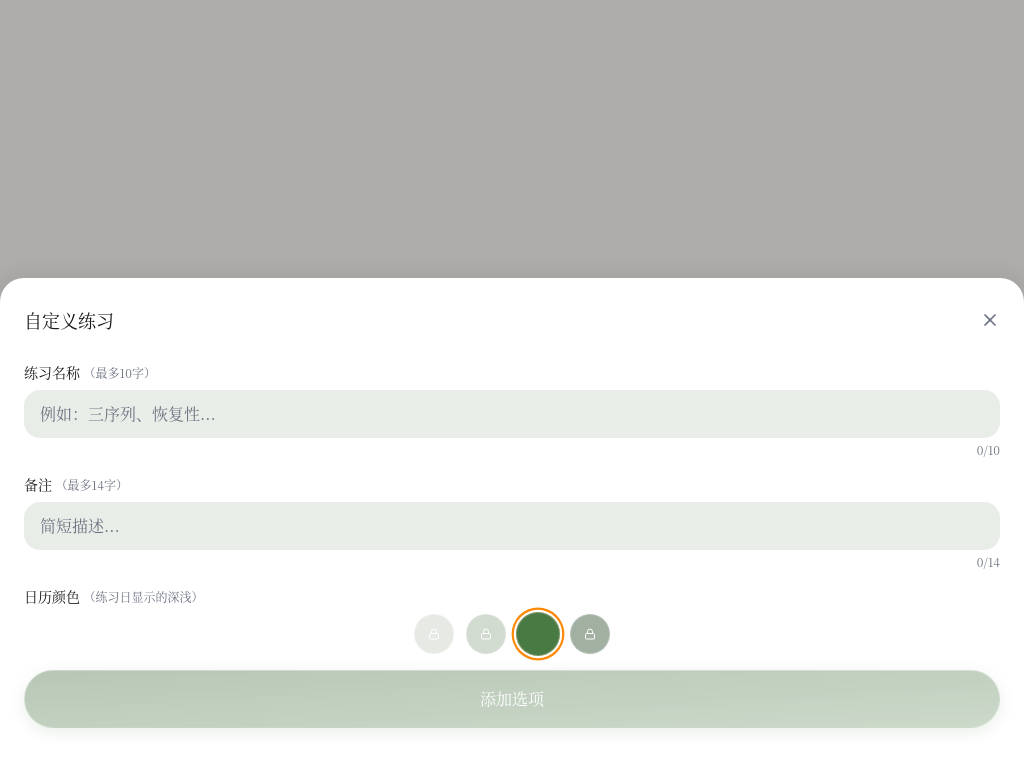
Test: MembershipPromptModal stacking regression › 会员提示覆盖父弹窗，关闭后父弹窗保持打开
Click the button named "色阶 1（Pro）": click(434, 634) top-left (414, 614), bottom-right (454, 654)
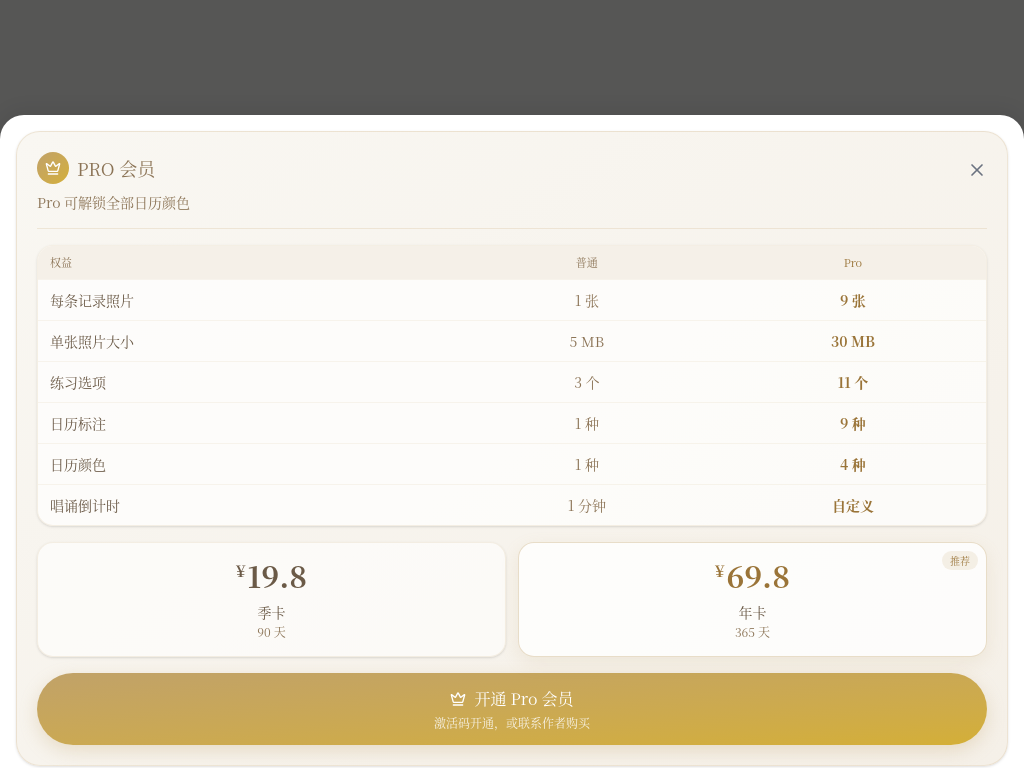
expect the element named "关闭会员提示" is shown: met
Click the button named "关闭会员提示": click(977, 170) top-left (959, 152), bottom-right (995, 188)
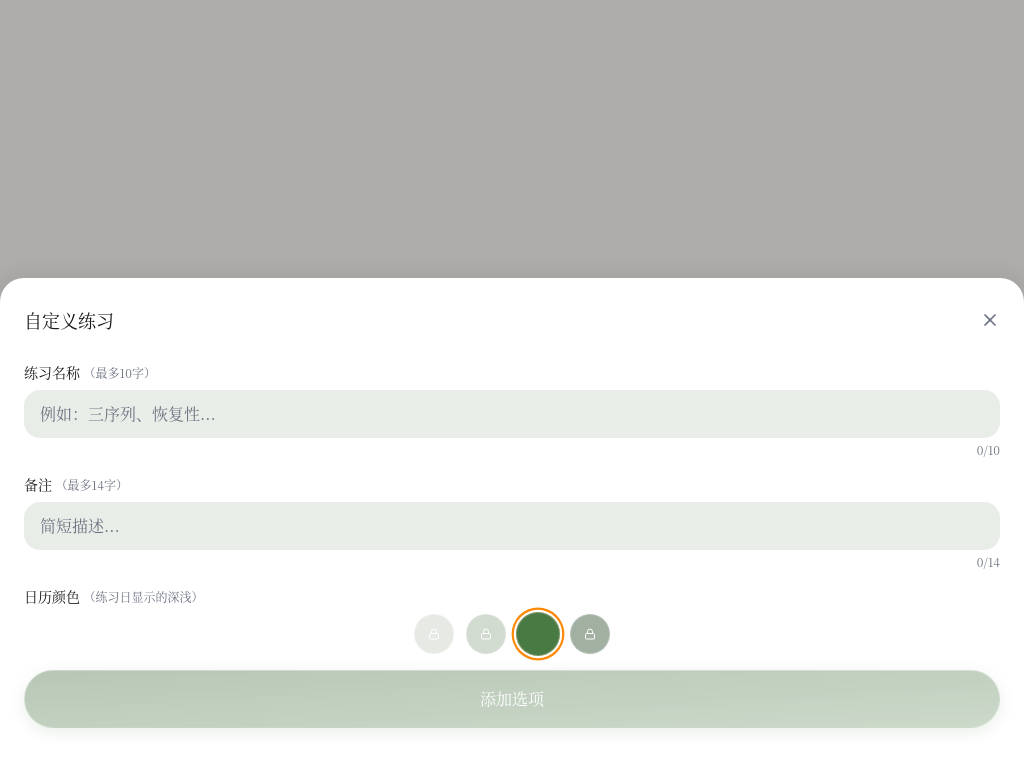
expect the button "关闭会员提示" is gone: met
